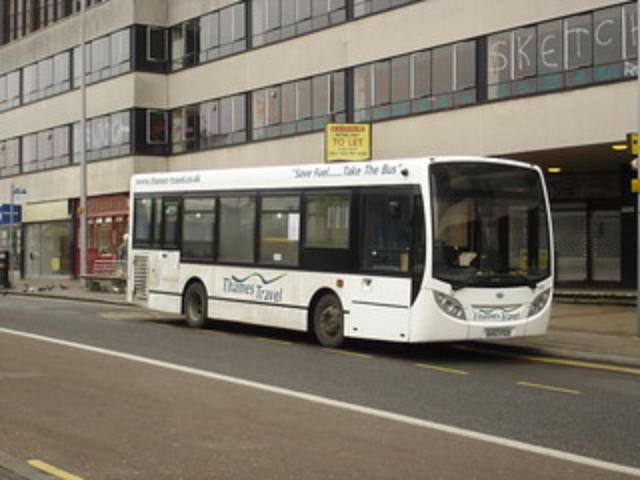bus: (126, 154, 554, 352)
